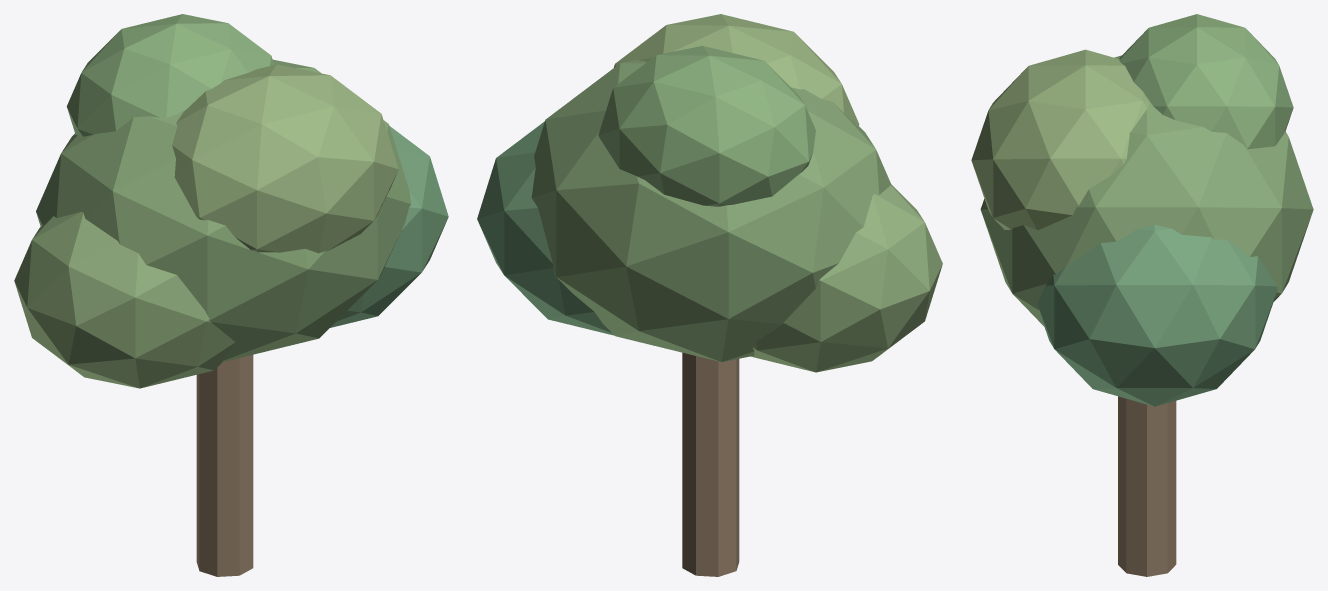
File: oak.glb
3 renders of one model, left to right at view 1: azimuth 30°, elevation 25°; view 2: azimuth 150°, elevation 25°; view 3: azimuth 270°, elevation 25°, orthographic.
Parts seen in each view (by area): view 1: oak; view 2: oak; view 3: oak.
Part boxes in pixels (x1,y1,x2,y2): oak: [14, 14, 448, 576]; oak: [477, 14, 942, 576]; oak: [971, 14, 1313, 576].
Size of the model in its own units: 6.3 by 7.55 by 4.45.
